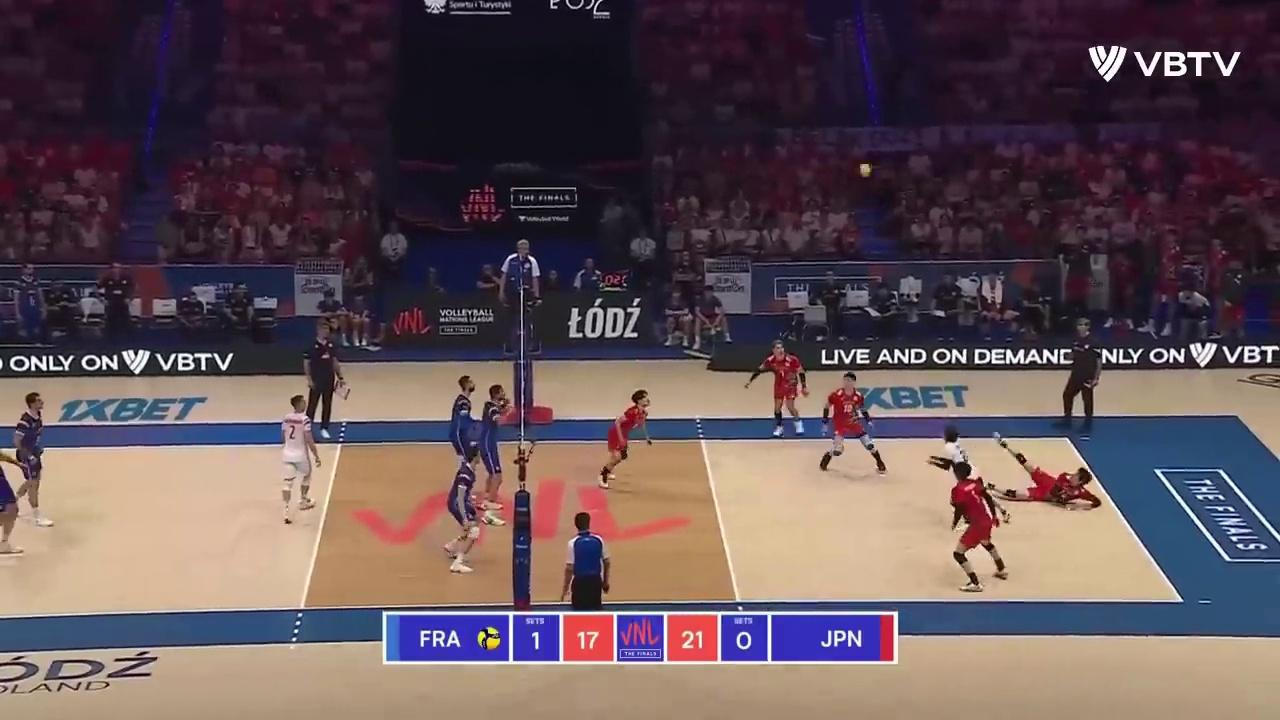ball: (862, 163, 872, 177)
